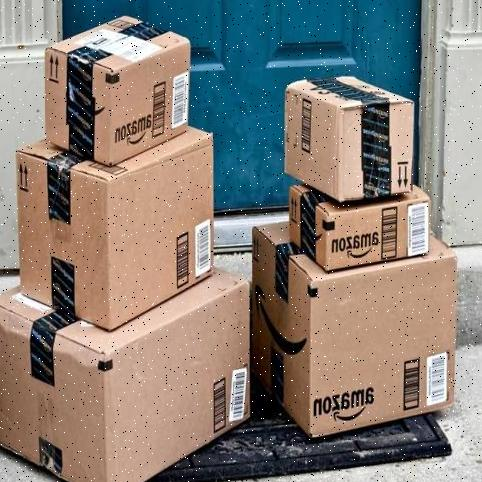Amazon: (0, 293, 256, 482), (248, 224, 456, 440), (10, 139, 220, 332), (38, 11, 190, 167), (288, 71, 412, 196), (281, 186, 432, 275)
